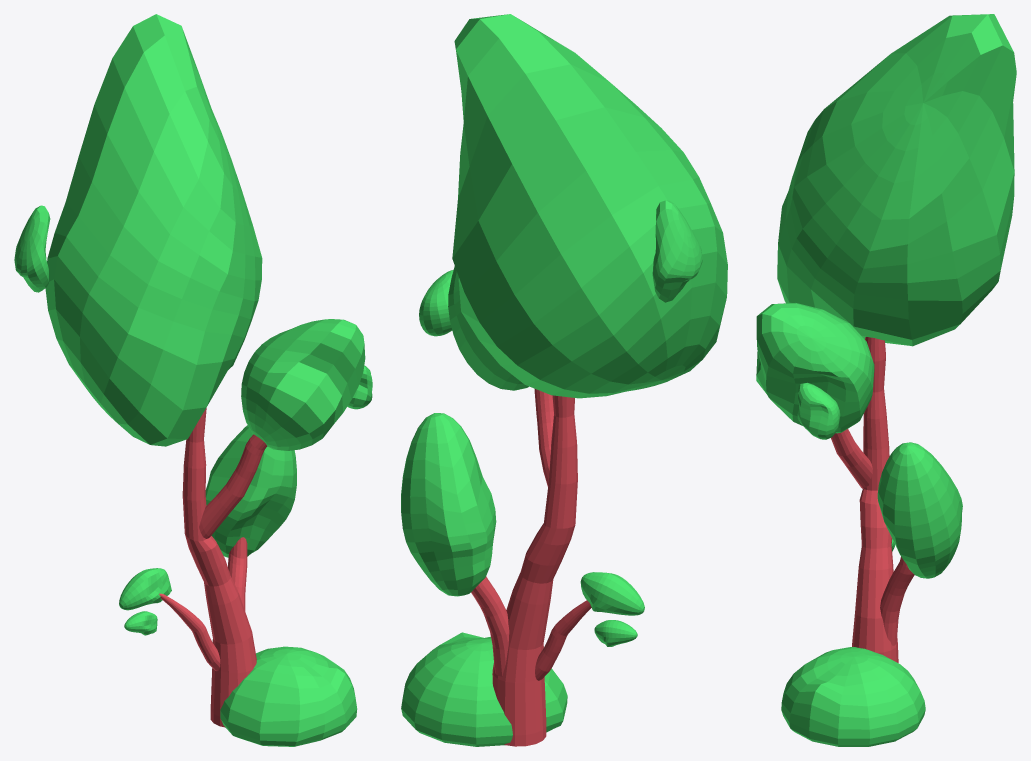
File: arbol_v2.fbx
The picture shows the model from 3 angles, left to right: view 1: azimuth 30°, elevation 25°; view 2: azimuth 150°, elevation 25°; view 3: azimuth 270°, elevation 25°; orthographic projection. The views are drawn at different scales.
Visible parts, largest first — view 1: arbol3; view 2: arbol3; view 3: arbol3.
Boxes of the visible parts, x1,y1,x2,y2 form: arbol3: (14,14,372,746); arbol3: (401,14,727,746); arbol3: (756,14,1016,746).
Bounding box in the file's own units: 138 × 301 × 105.
